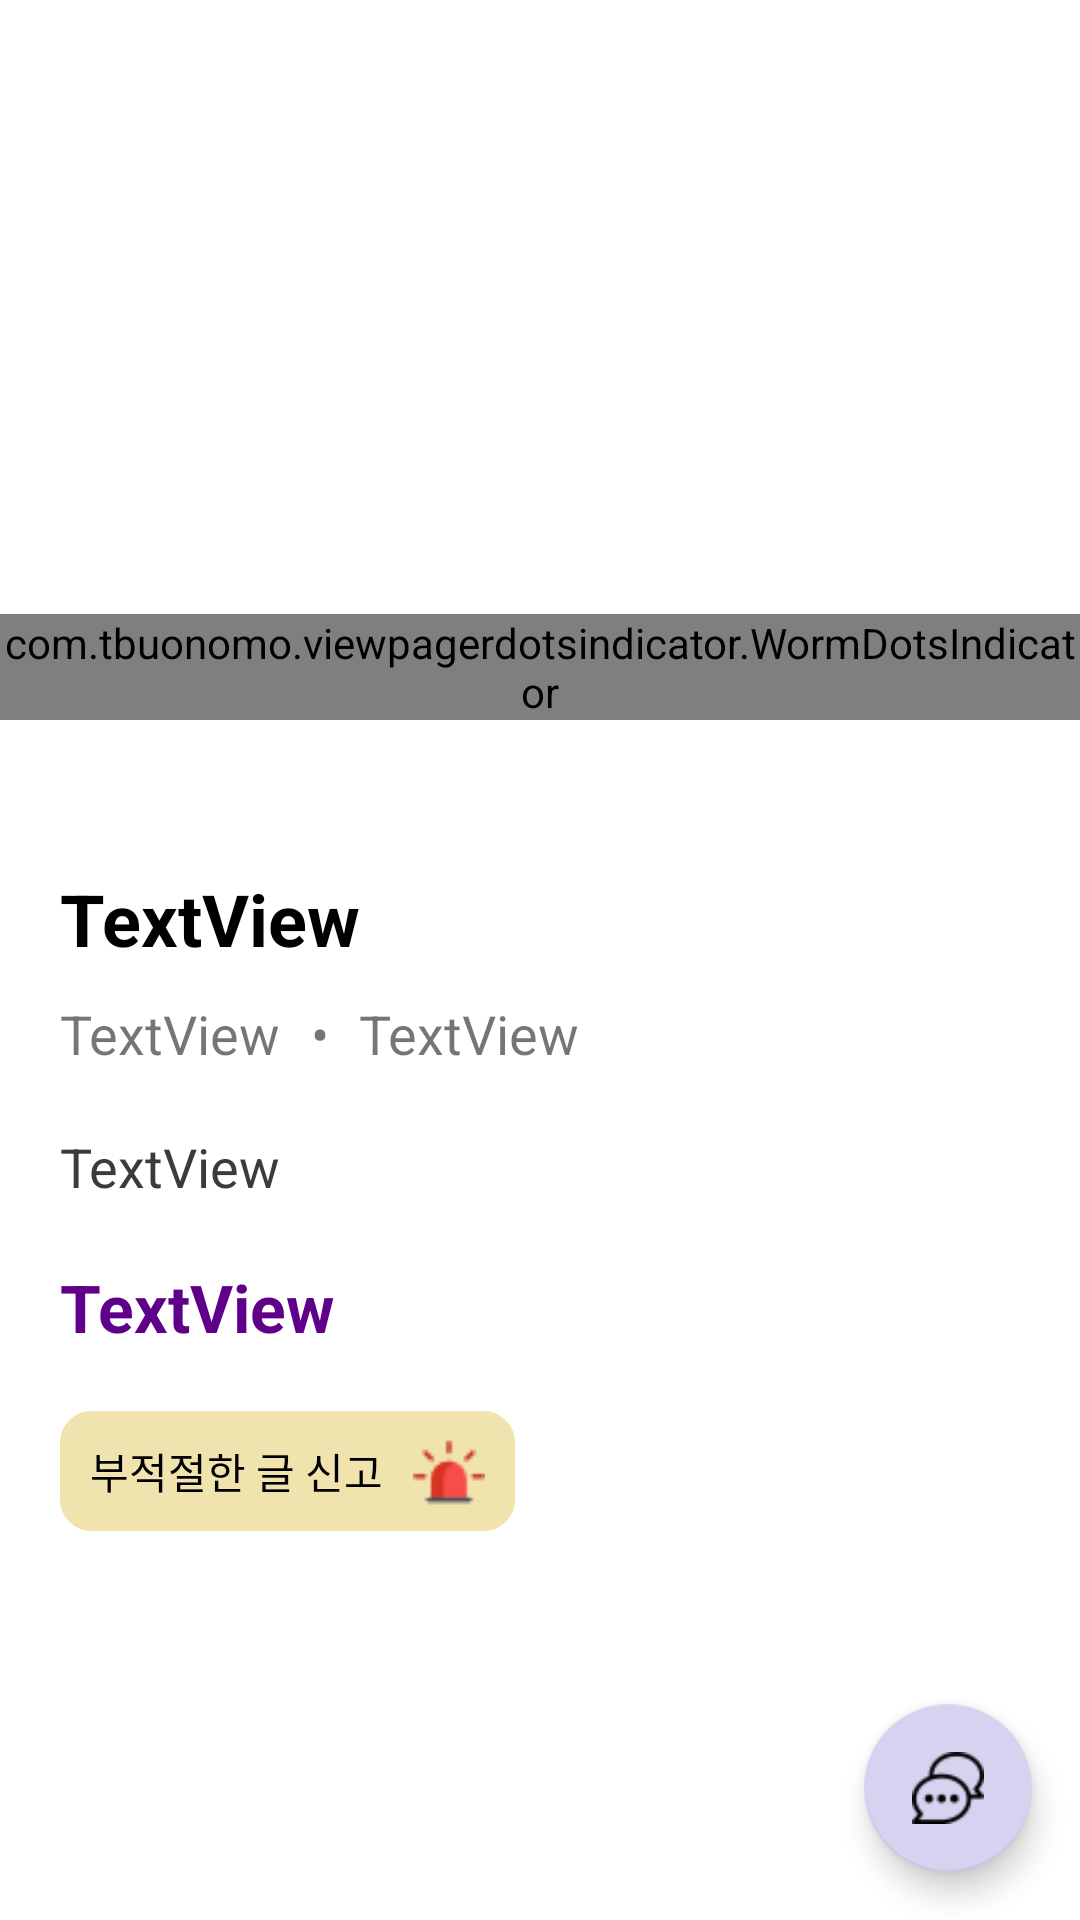

Icon click points for this 1080x1920 phone screenshot, format (x,y):
chat: (948,1788)
